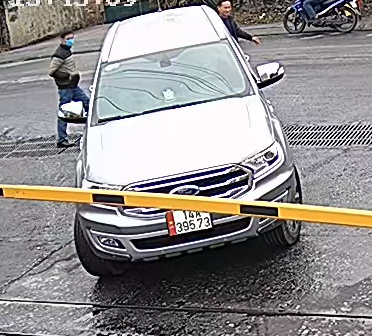vehicle plate: (165, 207, 215, 233)
